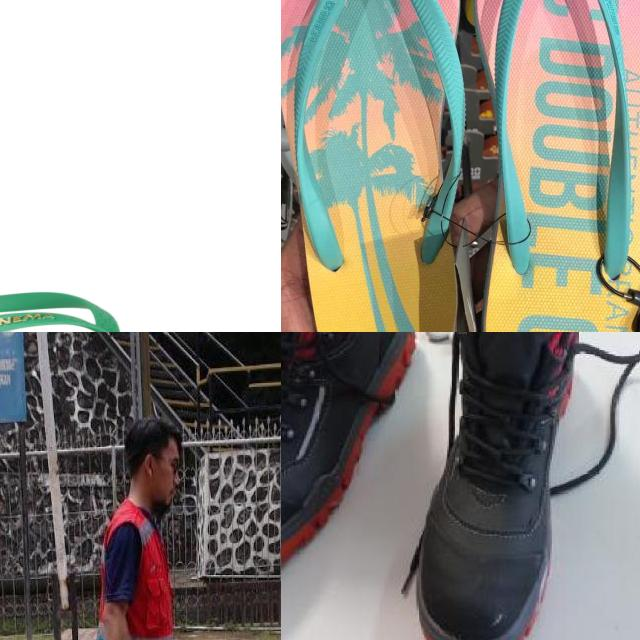No_Ear-Protection: (138, 448, 162, 482)
Sandals: (281, 0, 640, 332)
boots: (417, 332, 619, 640), (281, 332, 423, 587)
person: (50, 411, 238, 640)
vest: (79, 479, 192, 640)
